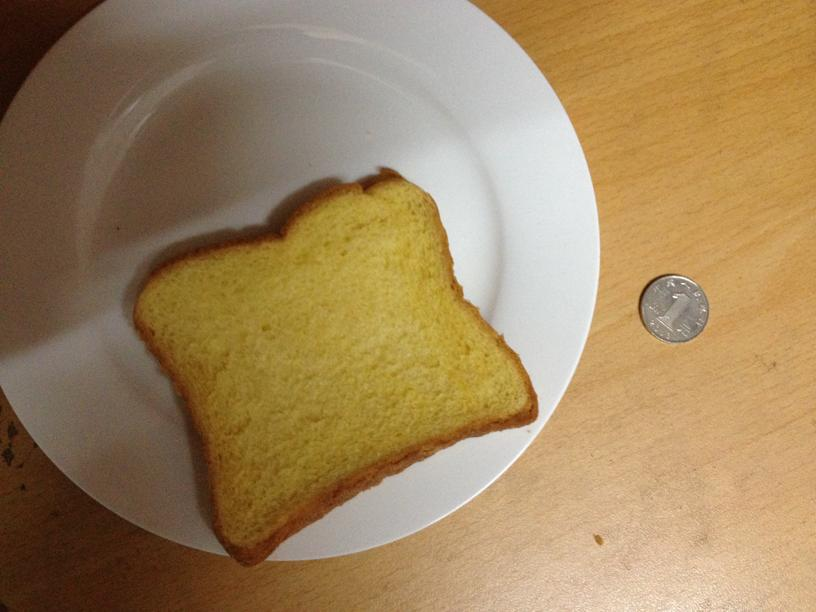bread: (126, 173, 541, 564)
coin: (641, 271, 708, 342)
